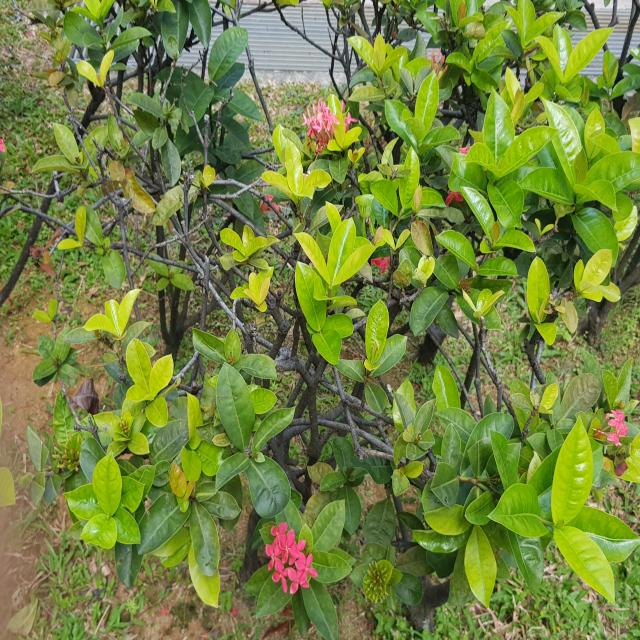Chinese-Ixora: (264, 520, 318, 593), (302, 96, 359, 159), (50, 430, 84, 475), (592, 409, 629, 449), (364, 558, 388, 605), (425, 46, 449, 77), (260, 183, 279, 217), (371, 255, 390, 276), (445, 190, 464, 207), (459, 145, 470, 155), (0, 137, 5, 152)
